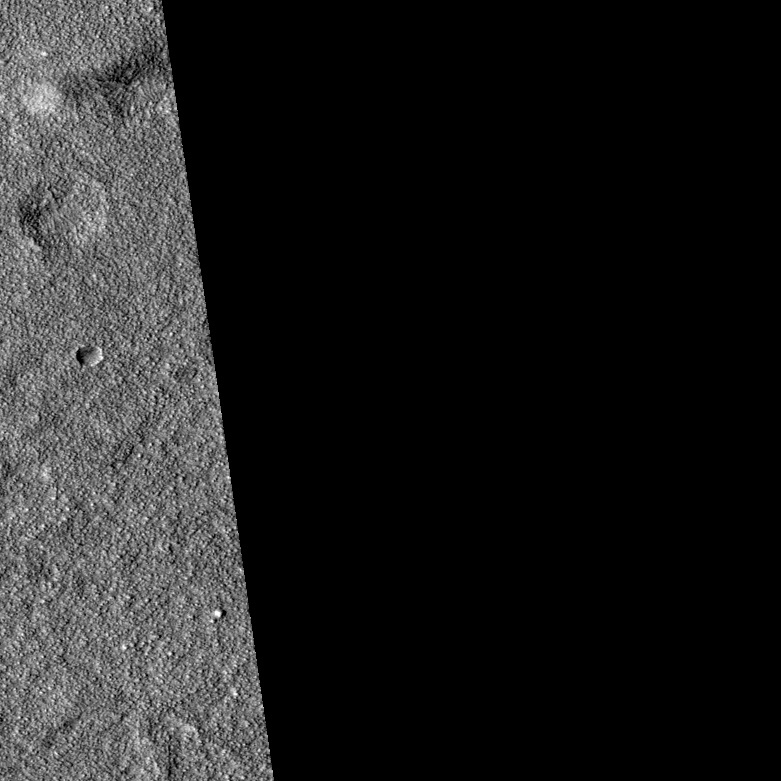dust_devil: (23, 44, 167, 124)
